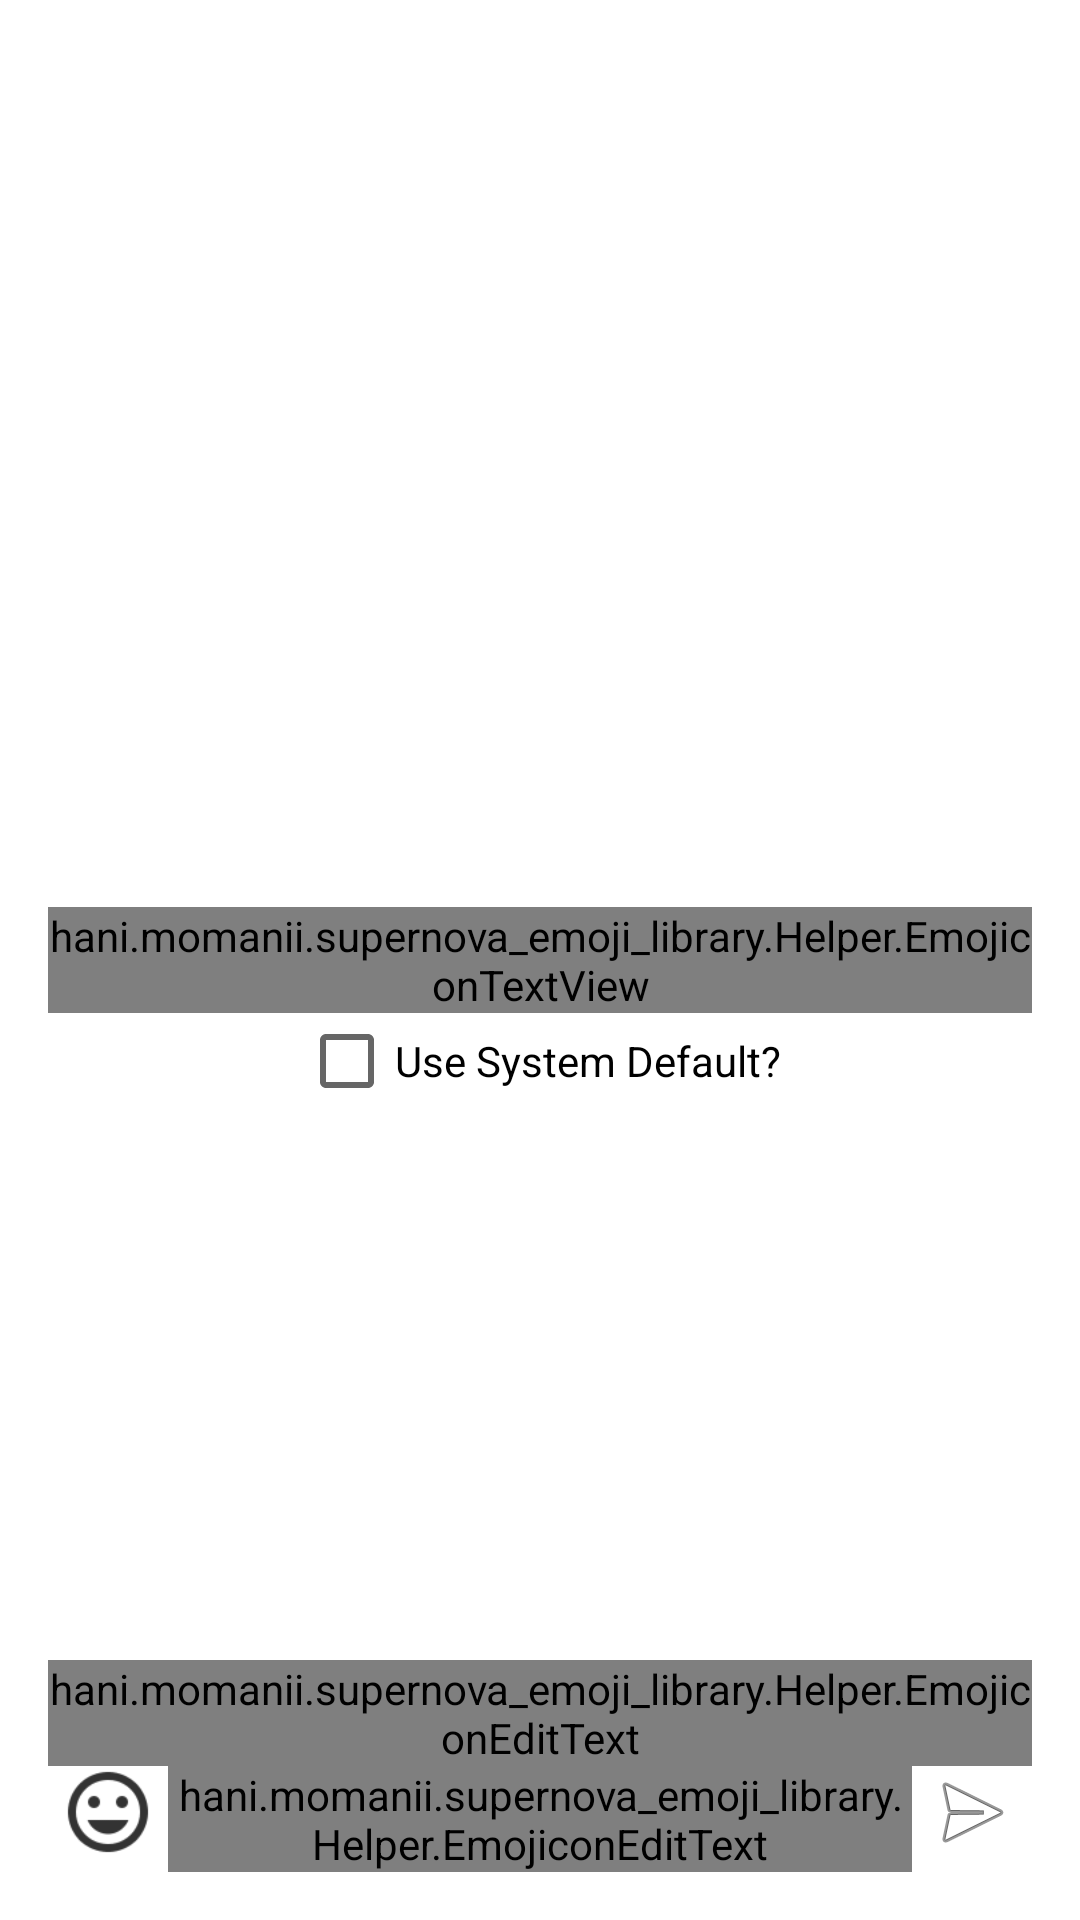

Point at icon controls on the screen. Image size 1080px x 1920px, points as point (x, y).
send: point (972, 1812)
smile: point (108, 1812)
